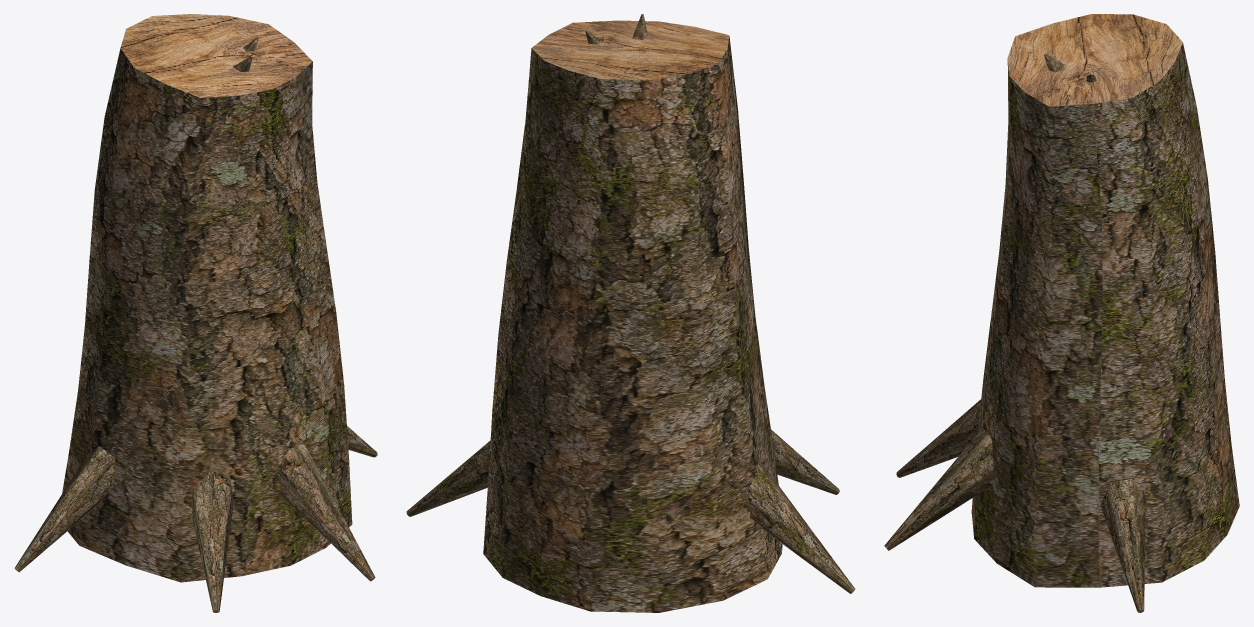
The model's file is broken-2.obj.
3 views of the same model, side by side, from view 1: azimuth 30°, elevation 25°; view 2: azimuth 150°, elevation 25°; view 3: azimuth 270°, elevation 25° (orthographic). The views are drawn at different scales.
Size of the model in its own units: 3.27 by 3.91 by 2.58.
1 material, 1 textured.
